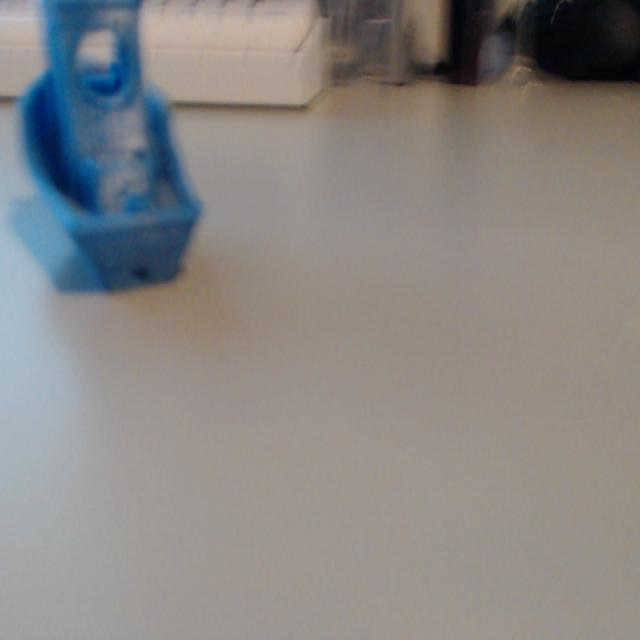benchy: (18, 0, 205, 292)
